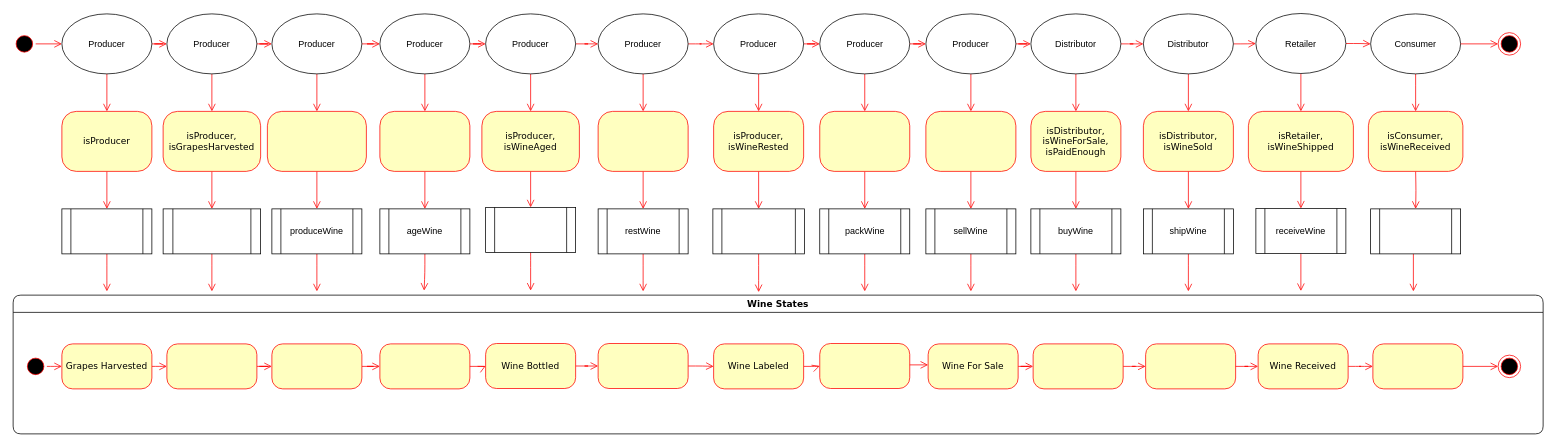
Some shapes in this 1556 by 447 pixel diagram are drawn without their labels. The centre of each missing label's shape, as x and y in pixels:
bottleUpWine: [530,229]
Grapes Processed: [211,366]
harvestGrapes: [106,231]
isProducer, isGrapesProcessed: [316,141]
isProducer, isWineBottled: [642,141]
isProducer, isWineLabeled: [864,141]
isProducer, isWinePacked: [970,141]
isProducer, isWineProduced: [424,141]
labelWine: [758,231]
processGrapes: [211,231]
purchaseWine: [1415,231]
Wine Aged: [424,366]
Wine Packed: [864,365]
Wine Produced: [316,366]
Wine Purchased: [1417,366]
Wine Rested: [642,365]
Wine Shipped: [1190,366]
Wine Sold: [1077,366]
